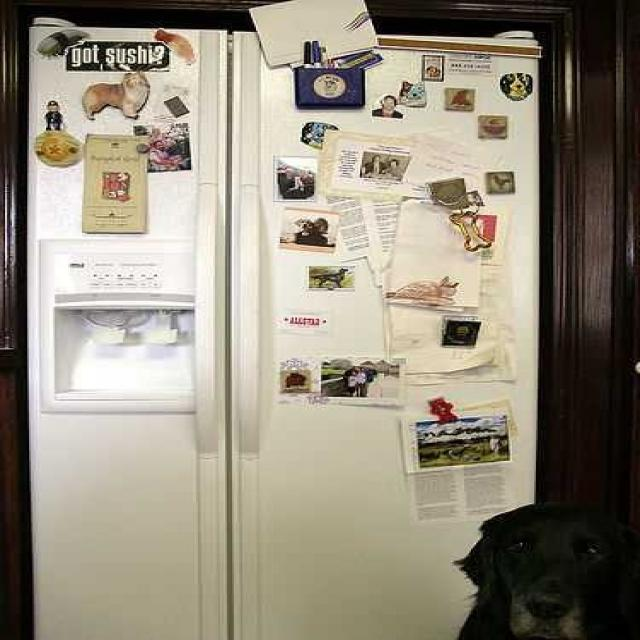refrigerator: (25, 18, 547, 640)
